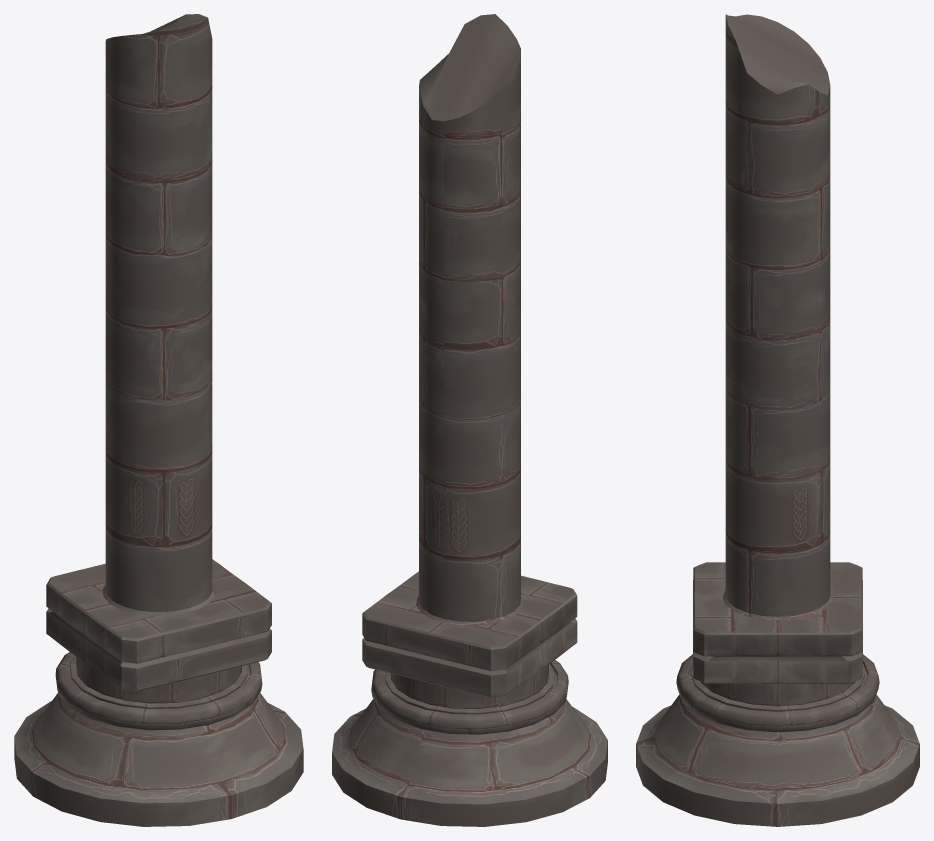
Rendered from PillarDamaged1_4.fbx.
3 renders of one model, left to right at view 1: azimuth 30°, elevation 25°; view 2: azimuth 150°, elevation 25°; view 3: azimuth 270°, elevation 25°, orthographic. The views are drawn at different scales.
Visible parts, largest first — view 1: pasted__pasted__polySurface77; view 2: pasted__pasted__polySurface77; view 3: pasted__pasted__polySurface77.
Boxes of the visible parts, x1,y1,x2,y2 form: pasted__pasted__polySurface77: (14,14,303,826); pasted__pasted__polySurface77: (332,14,607,826); pasted__pasted__polySurface77: (636,14,919,826).
Bounding box in the file's own units: 61.5 × 180 × 61.5.
